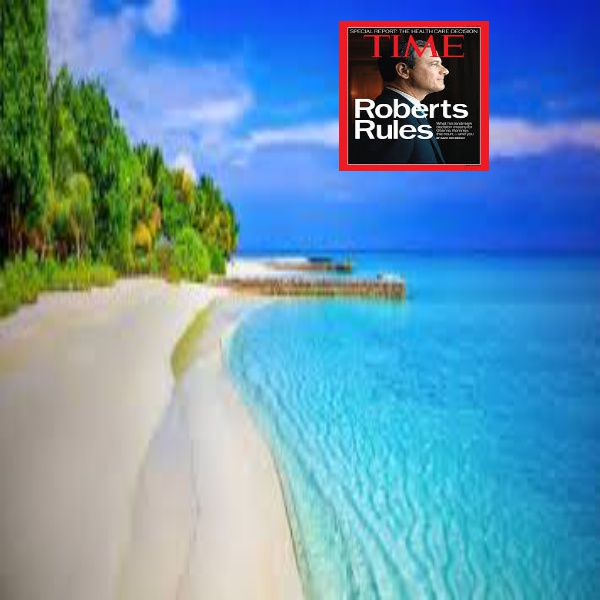time_cover: (336, 12, 491, 172)
